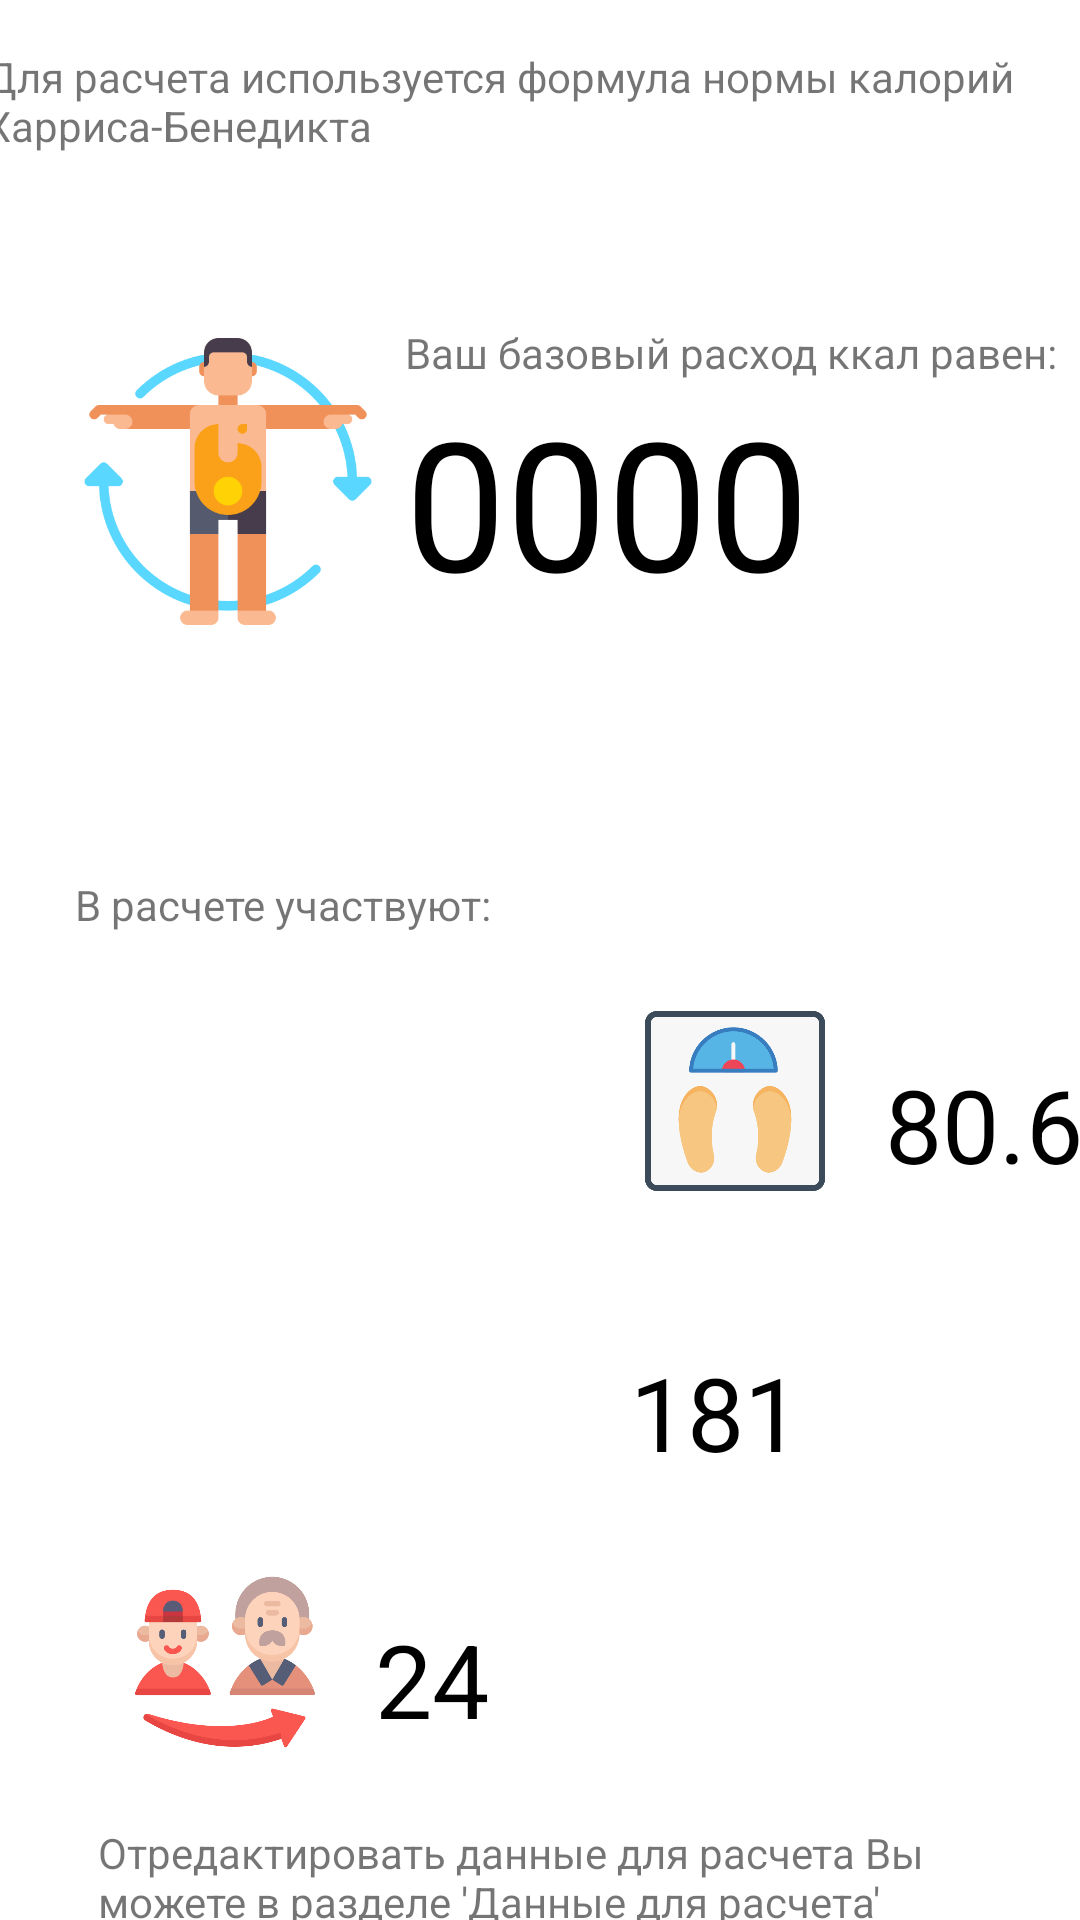

Icon click points for this 1080×1920 phone screenshot, format [x,y]:
growing up: [225,1662]
metabolism: [228,481]
weight scale: [735,1101]
